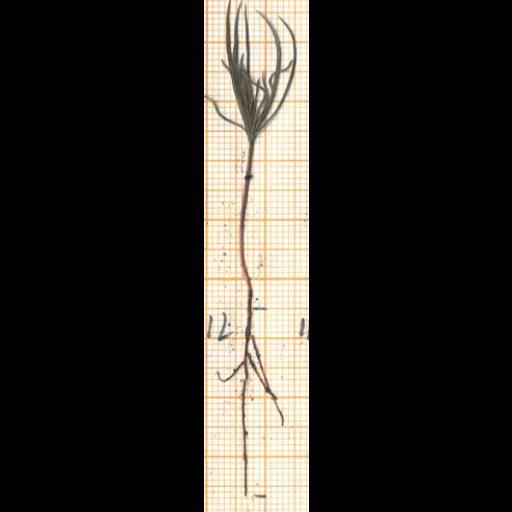flowerPinus: (222, 0, 296, 140)
rootPinus: (217, 313, 284, 426), (241, 383, 247, 494)
stemPinus: (239, 143, 254, 309)
